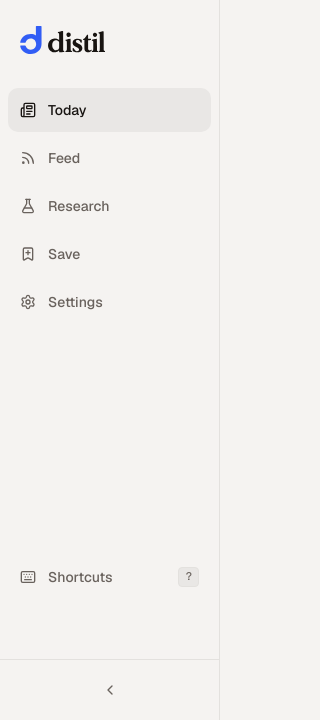
Scenario: Sidebar › collapses and expands while keeping an accessible toggle
Click the button named "Collapse sidebar" at (110, 690), box [8,668,211,712]
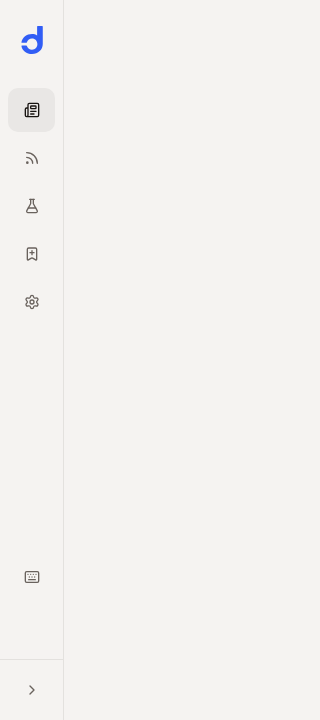
Expected: the picture named "Distil logo" is shown, [18,26,46,54]
Expected: the text "Today" is gone
Expected: the button named "Expand sidebar" is shown
Click the button named "Expand sidebar" at (32, 690), box [8,668,55,712]
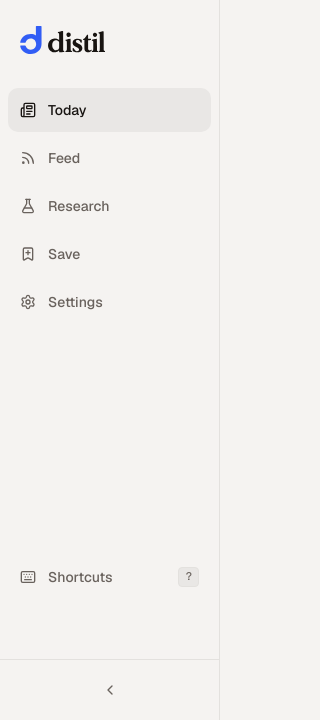
Expected: the picture named "Distil logo" is shown, [20,26,105,54]
Expected: the button named "Collapse sidebar" is shown, [8,668,211,712]
